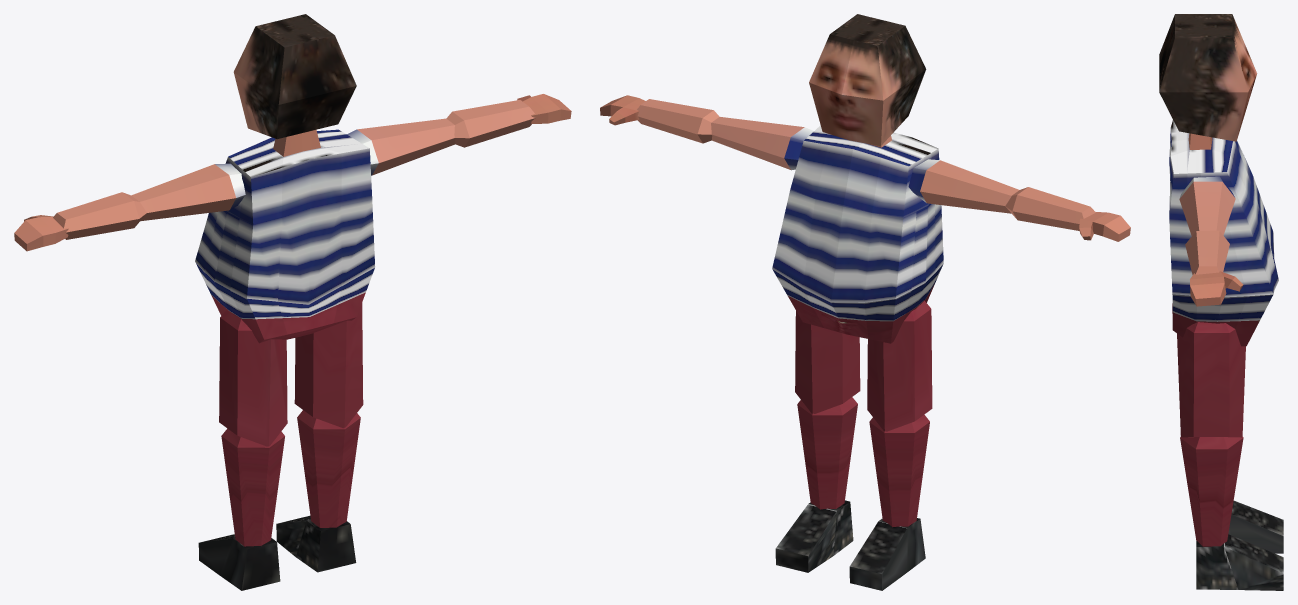
File: egor.fbx
3 views of the same model, side by side, from view 1: azimuth 30°, elevation 25°; view 2: azimuth 150°, elevation 25°; view 3: azimuth 270°, elevation 25° (orthographic). The views are drawn at different scales.
Parts seen in each view (by area): view 1: Cube; view 2: Cube; view 3: Cube.
Boxes of the visible parts, bbox=[...] form: Cube: bbox=[14, 14, 571, 590]; Cube: bbox=[600, 14, 1130, 590]; Cube: bbox=[1159, 14, 1283, 590].
Size of the model in its own units: 641 by 614 by 129.
Materials: 1 (1 with a texture image).
